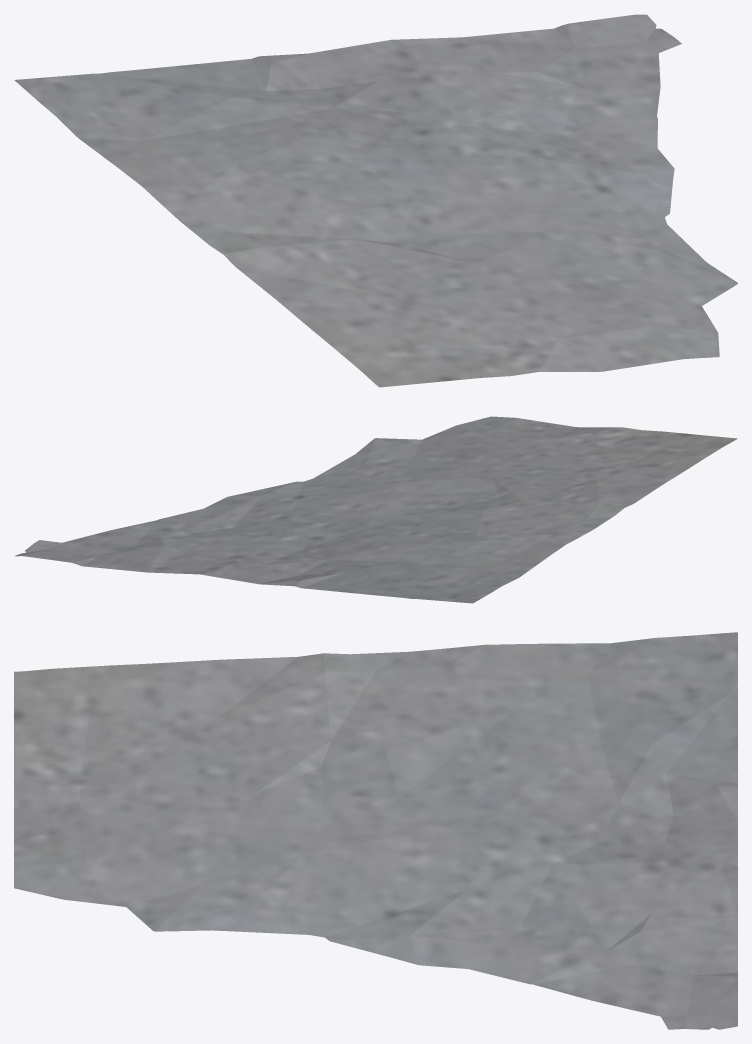
3 renders of one model, top to bottom at view 1: azimuth 30°, elevation 25°; view 2: azimuth 150°, elevation 25°; view 3: azimuth 270°, elevation 25°, orthographic. The views are drawn at different scales.
Size of the model in its own units: 1.67 by 0.234 by 1.67.
Materials: 2 (2 with a texture image).
